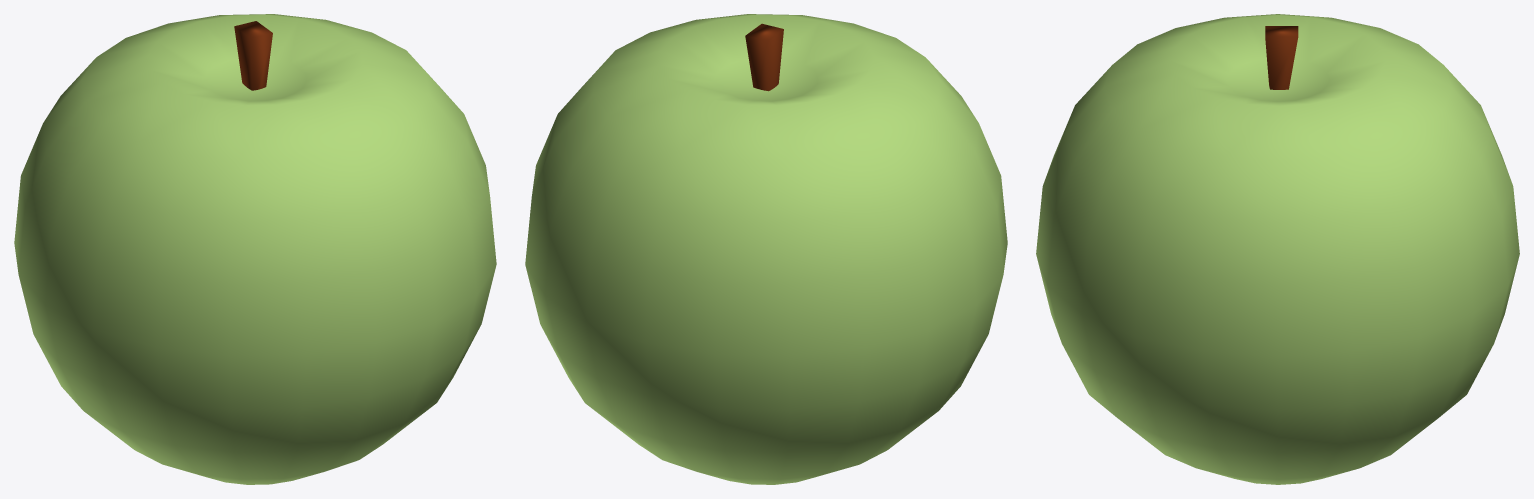
The model's file is Apple_green.fbx.
3 renders of one model, left to right at view 1: azimuth 30°, elevation 25°; view 2: azimuth 150°, elevation 25°; view 3: azimuth 270°, elevation 25°, orthographic.
Parts seen in each view (by area): view 1: Apple_green; view 2: Apple_green; view 3: Apple_green.
Boxes of the visible parts, bbox=[...] form: Apple_green: bbox=[14, 14, 496, 484]; Apple_green: bbox=[525, 14, 1007, 484]; Apple_green: bbox=[1036, 14, 1519, 484].
Bounding box in the file's own units: 13.34 × 13.24 × 13.32.
